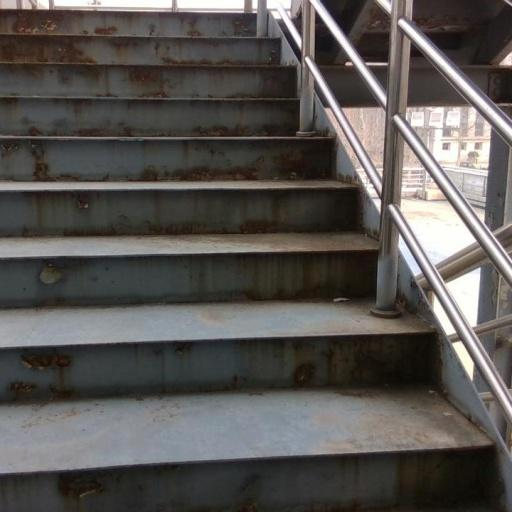stairs: (0, 11, 500, 511)
